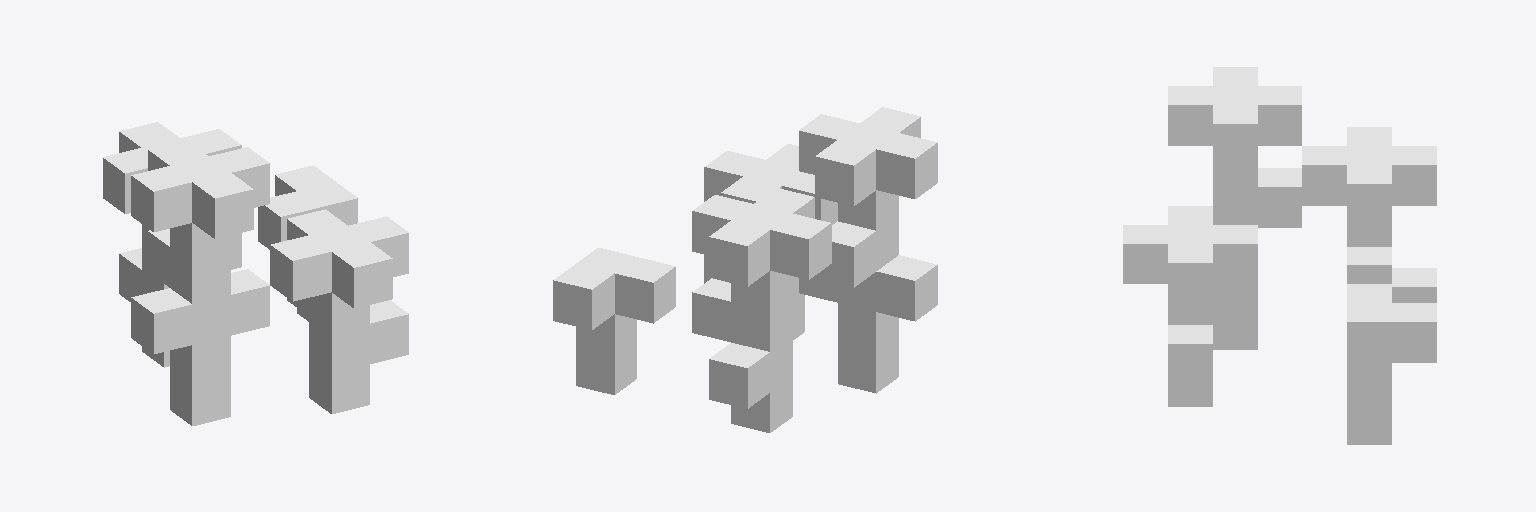
Rendered from flower-1.obj.
3 renders of one model, left to right at view 1: azimuth 30°, elevation 25°; view 2: azimuth 150°, elevation 25°; view 3: azimuth 270°, elevation 25°, orthographic.
Parts seen in each view (by area): view 1: object 1; view 2: object 1; view 3: object 1.
Boxes of the visible parts, x1,y1,x2,y2 form: object 1: [103, 122, 408, 425]; object 1: [553, 107, 937, 432]; object 1: [1123, 67, 1436, 444].
Size of the model in its own units: 0.7 by 0.6 by 0.7.